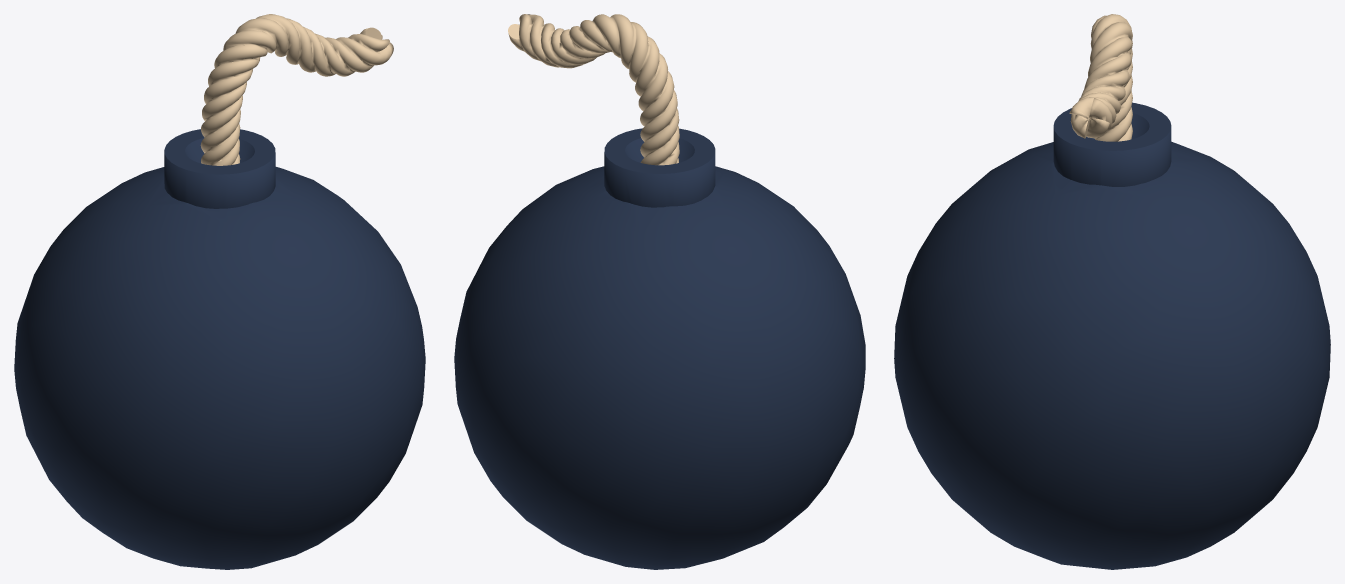
File: bomb.gltf
The picture shows the model from 3 angles, left to right: view 1: azimuth 30°, elevation 25°; view 2: azimuth 150°, elevation 25°; view 3: azimuth 270°, elevation 25°; orthographic projection. The views are drawn at different scales.
Parts seen in each view (by area): view 1: Body, Rope; view 2: Body, Rope; view 3: Body, Rope.
Boxes of the visible parts, x1=… form: Body: x1=14, y1=129, x2=425, y2=569; Rope: x1=200, y1=14, x2=393, y2=165; Body: x1=454, y1=128, x2=865, y2=569; Rope: x1=508, y1=14, x2=679, y2=165; Body: x1=894, y1=102, x2=1330, y2=569; Rope: x1=1069, y1=14, x2=1132, y2=141.
Size of the model in its own units: 1 by 1.4 by 0.9999.
